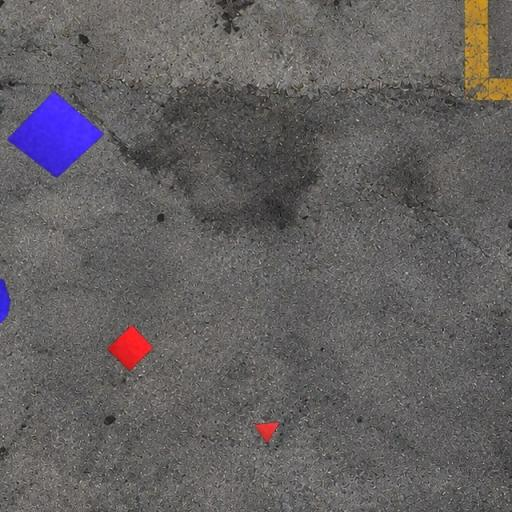BLUE_SQUARE: (6, 90, 105, 178)
RED_SQUARE: (106, 324, 154, 372)
